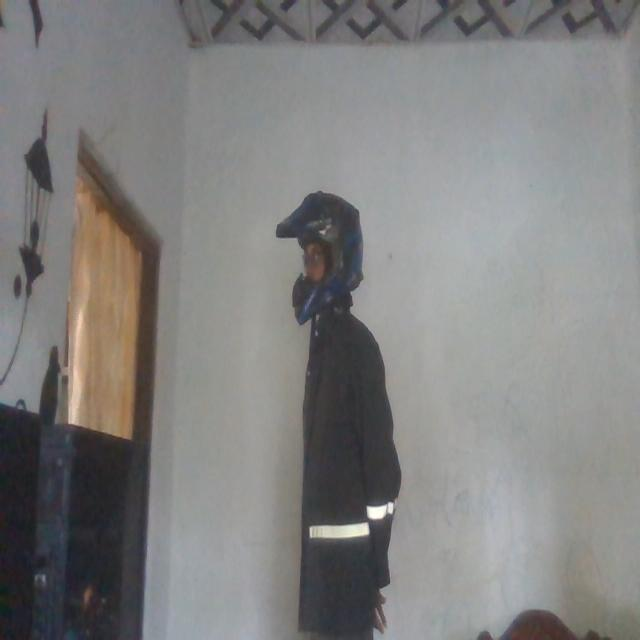Helmet_Wearer: (276, 190, 373, 321)
Jacket_Wearer: (293, 308, 403, 640)
Person: (273, 189, 413, 640)
